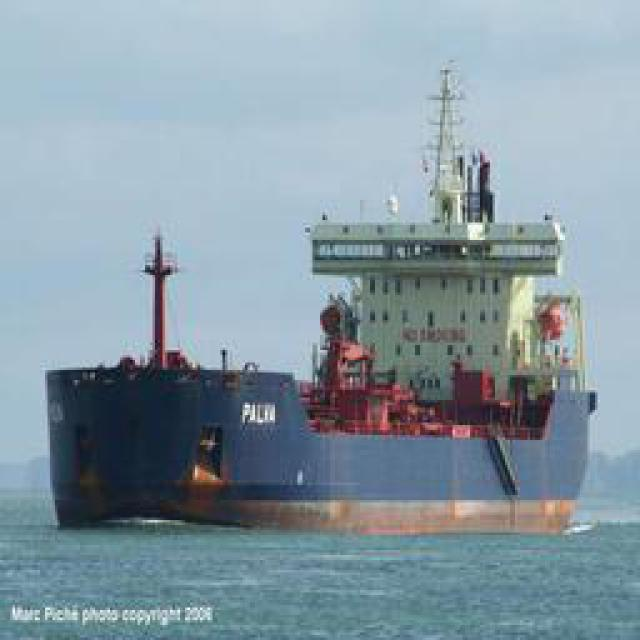Ship: (33, 50, 612, 542)
